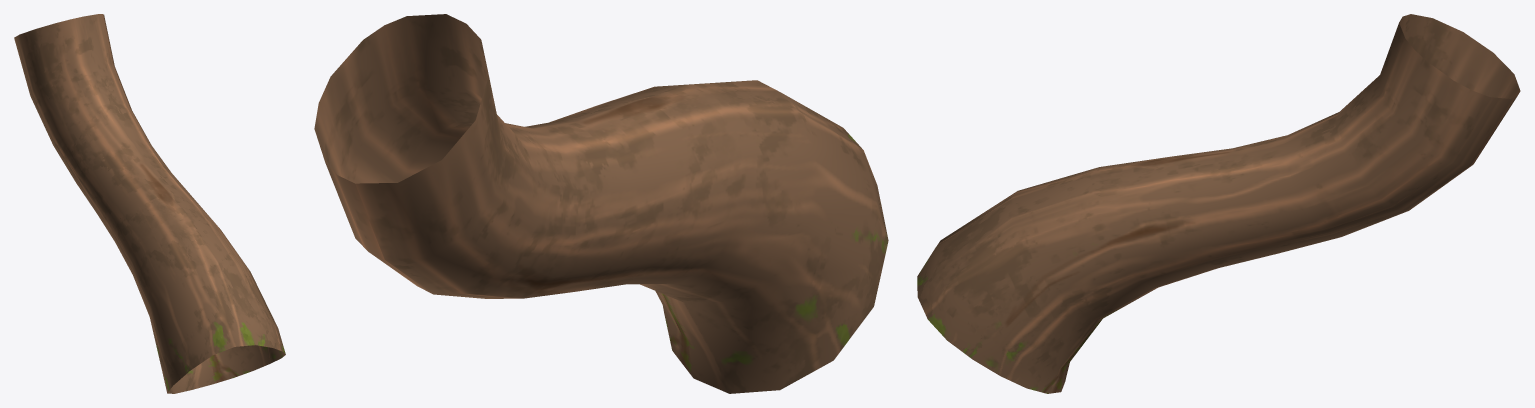
Rendered from Bold_Tree_Bend04.fbx.
3 renders of one model, left to right at view 1: azimuth 30°, elevation 25°; view 2: azimuth 150°, elevation 25°; view 3: azimuth 270°, elevation 25°, orthographic. The views are drawn at different scales.
Visible parts, largest first — view 1: Bold_Tree_Bend04; view 2: Bold_Tree_Bend04; view 3: Bold_Tree_Bend04.
Part boxes in pixels (box(x1,y1,x2,y2)): Bold_Tree_Bend04: box(14, 14, 285, 393); Bold_Tree_Bend04: box(314, 14, 888, 393); Bold_Tree_Bend04: box(917, 14, 1520, 393).
Bounding box in the file's own units: 1523 × 3993 × 5900.
1 material, 1 textured.
